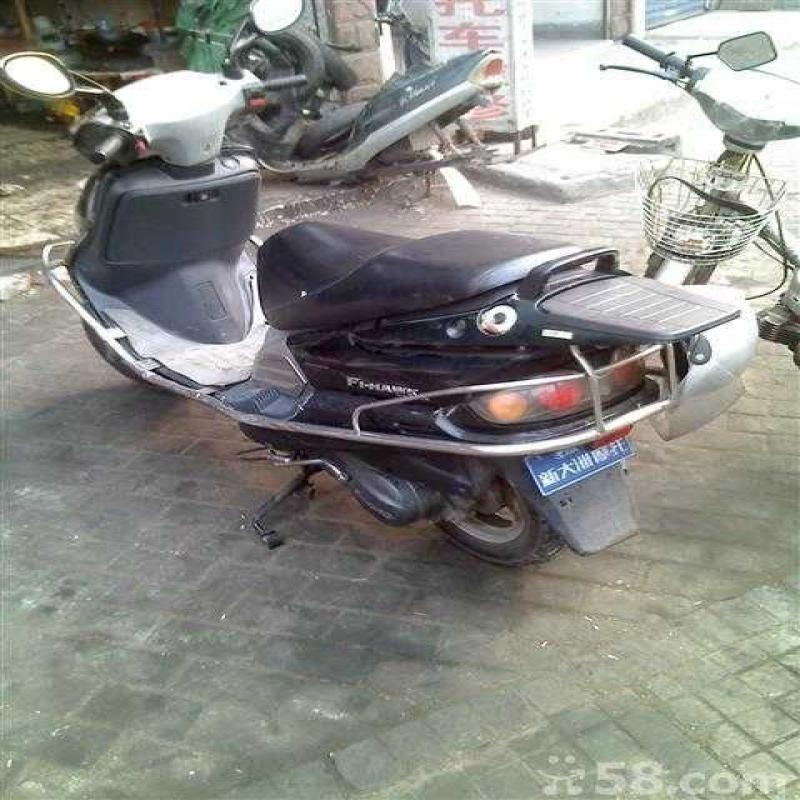bike: (10, 40, 698, 577)
